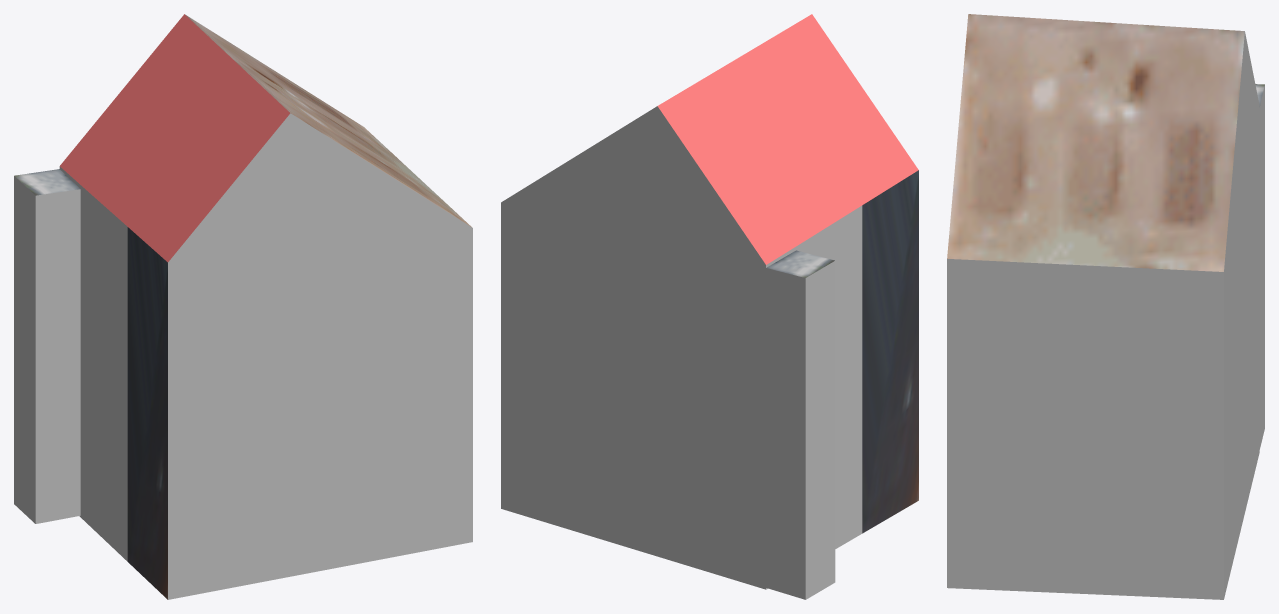
The model's file is DEBW_0010007Txgc.gltf.
3 renders of one model, left to right at view 1: azimuth 30°, elevation 25°; view 2: azimuth 150°, elevation 25°; view 3: azimuth 270°, elevation 25°, orthographic. The views are drawn at different scales.
Parts seen in each view (by area): view 1: Z_UP; view 2: Z_UP; view 3: Z_UP.
Part boxes in pixels (box(x1,y1,x2,y2)): Z_UP: box(14, 14, 472, 599); Z_UP: box(501, 14, 918, 599); Z_UP: box(947, 14, 1264, 599).
Size of the model in its own units: 16.02 by 21.19 by 12.56.
3 materials, 1 textured.
